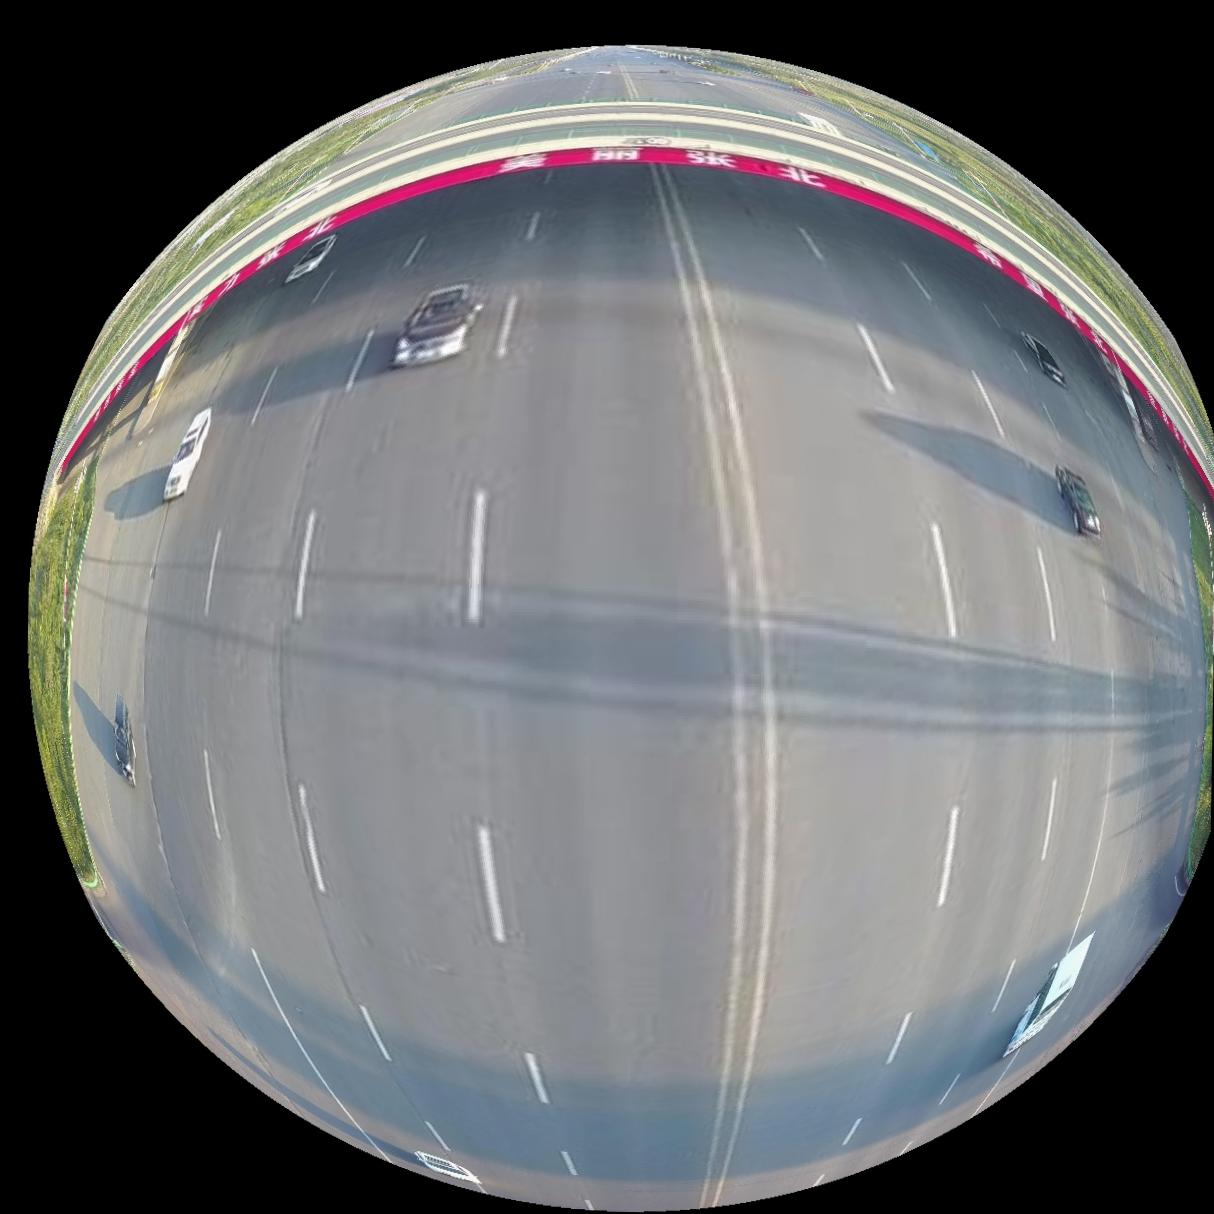cars: (1005, 934, 1095, 1058), (391, 282, 482, 366), (161, 407, 209, 500), (1058, 466, 1102, 537), (283, 233, 335, 281), (1024, 330, 1067, 385), (111, 695, 133, 786)
